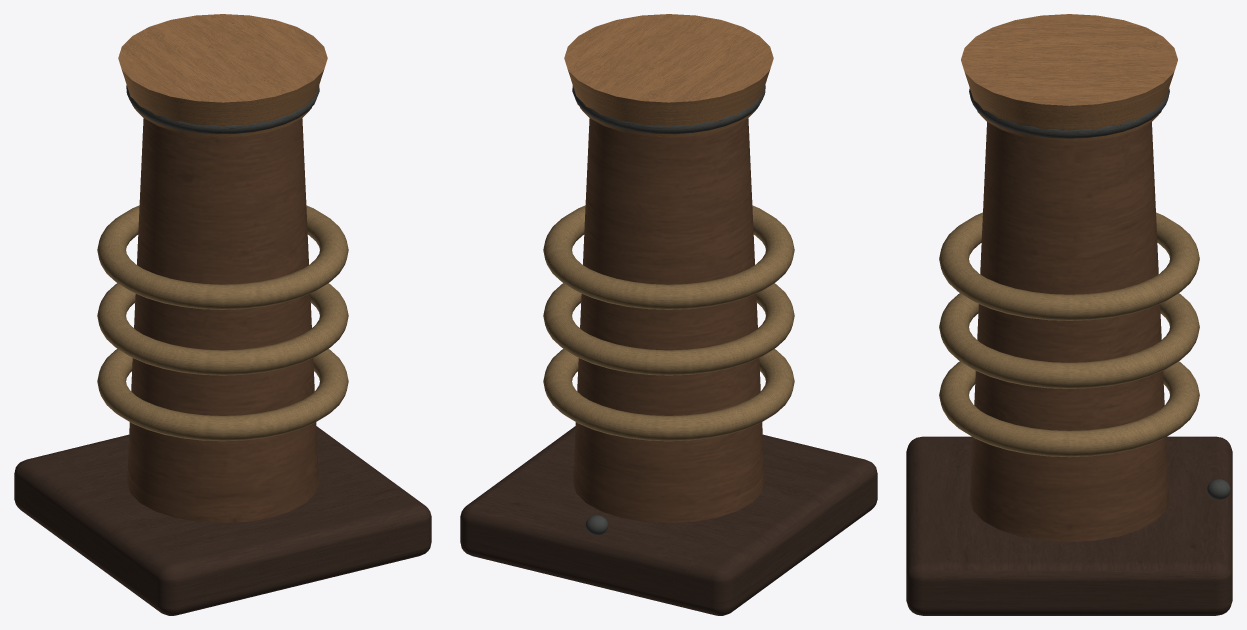
File: mooring_post.glb
3 views of the same model, side by side, from view 1: azimuth 30°, elevation 25°; view 2: azimuth 150°, elevation 25°; view 3: azimuth 270°, elevation 25° (orthographic). The views are drawn at different scales.
Parts seen in each view (by area): view 1: mooring_post; view 2: mooring_post; view 3: mooring_post.
Boxes of the visible parts, left/top/right/bottom form: mooring_post: left=14, top=14, right=431, bottom=615; mooring_post: left=460, top=14, right=877, bottom=615; mooring_post: left=906, top=14, right=1232, bottom=615.
Size of the model in its own units: 0.6 by 1 by 0.6.
Materials: 1 (1 with a texture image).
